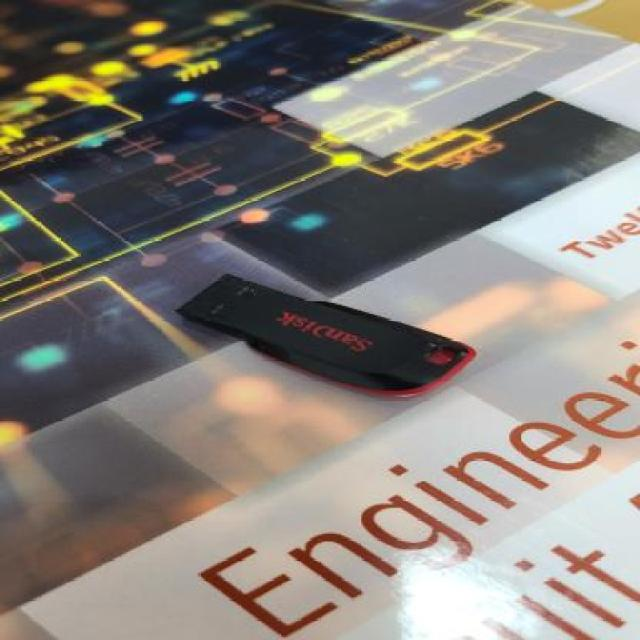Flashdisk: (172, 269, 480, 400)
